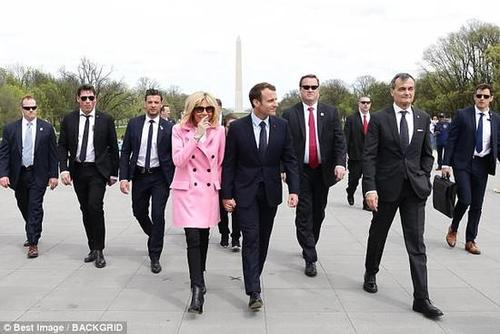no_mask: (183, 92, 219, 131), (246, 82, 279, 120), (391, 73, 417, 108), (297, 75, 321, 104), (143, 86, 165, 117), (75, 86, 99, 113), (473, 84, 495, 112), (18, 93, 39, 121), (357, 95, 373, 115)
